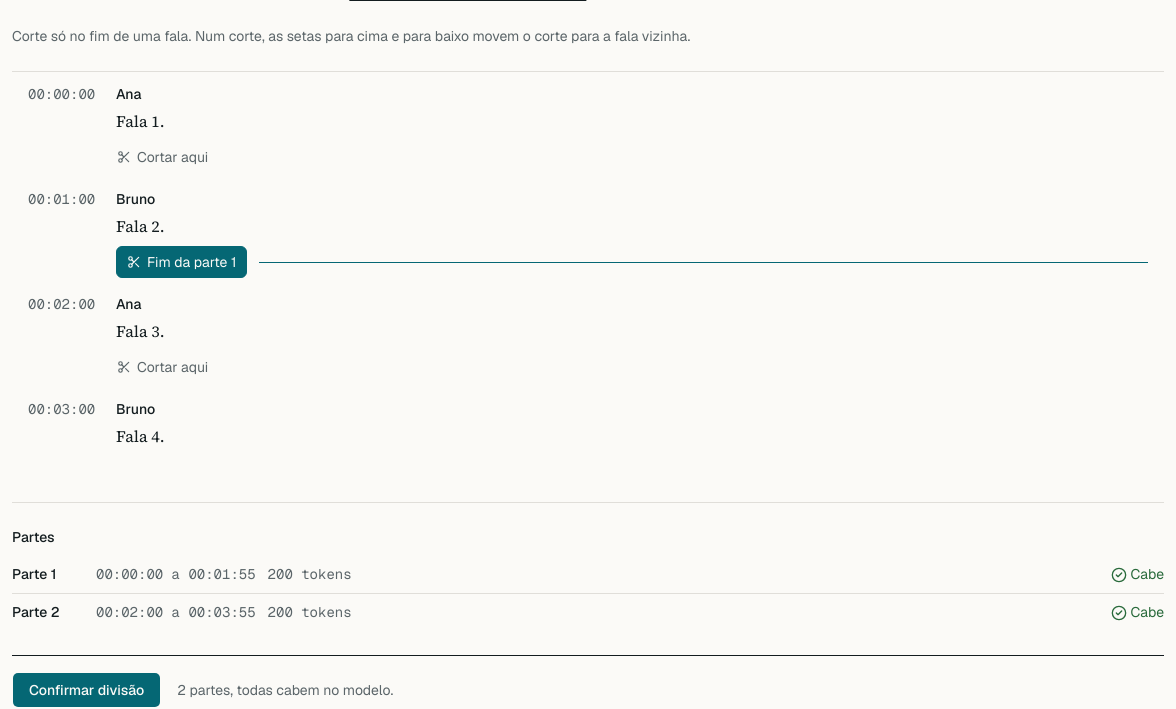
Scenario: Ata: recusa da API vira Notice de erro
(page scrolled)
Click the button "Confirmar divisão" at (87, 690), box [12,672,161,708]
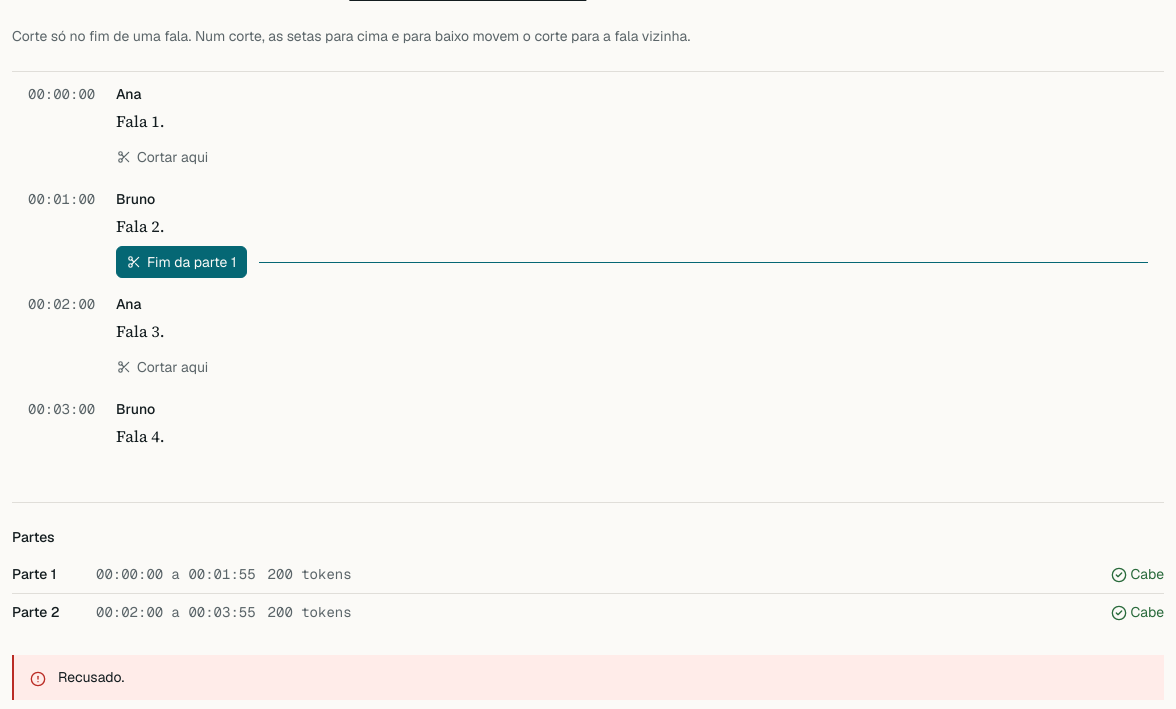
Check: the message reads "Recusado.", box [58,668,124,686]
